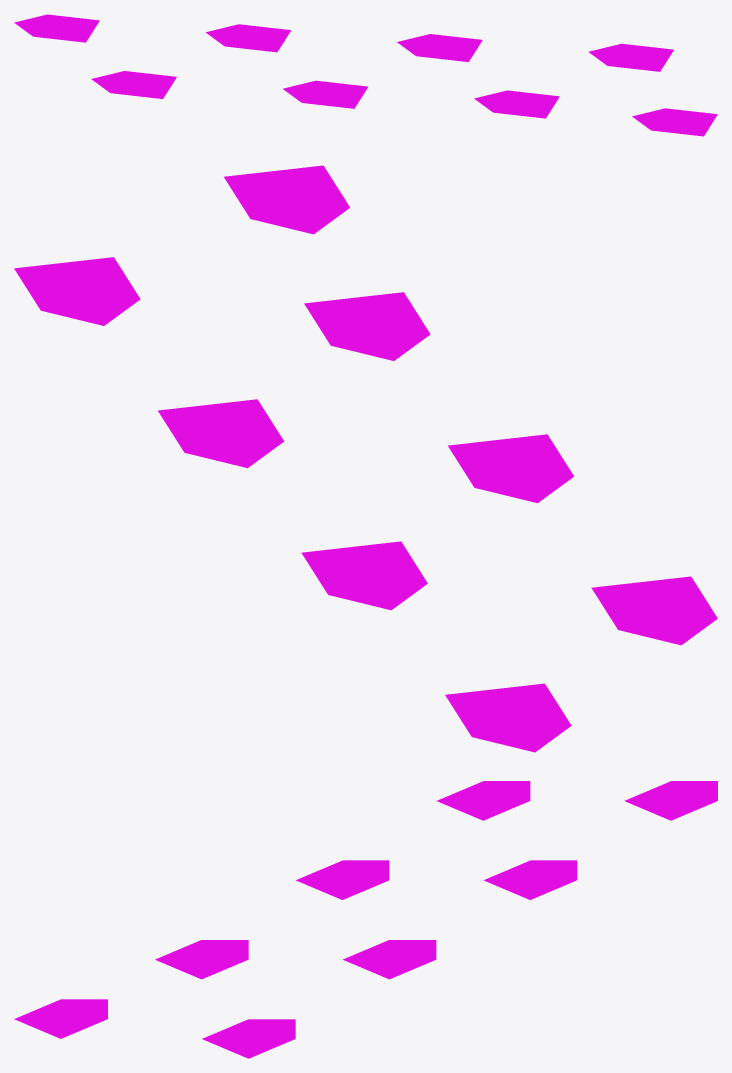
Rendered from sandyfootsteps.obj.
3 renders of one model, top to bottom at view 1: azimuth 30°, elevation 25°; view 2: azimuth 150°, elevation 25°; view 3: azimuth 270°, elevation 25°, orthographic. The views are drawn at different scales.
Parts seen in each view (by area): view 1: sandyfootsteps_back; view 2: sandyfootsteps_back; view 3: sandyfootsteps_back.
Boxes of the visible parts, x1,y1,x2,y2 form: sandyfootsteps_back: [14, 14, 717, 136]; sandyfootsteps_back: [14, 165, 717, 752]; sandyfootsteps_back: [14, 781, 717, 1058].
Size of the model in its own units: 1.12 by 0 by 1.2.
